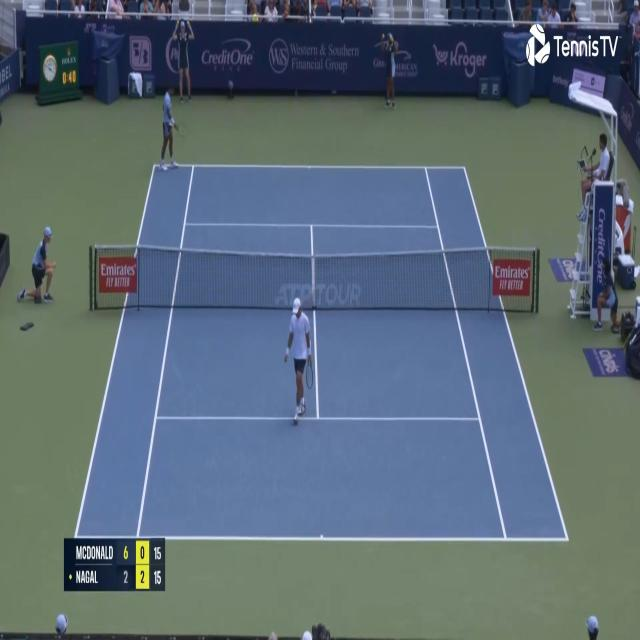tennis-player: (282, 294, 314, 428), (158, 82, 185, 172)
